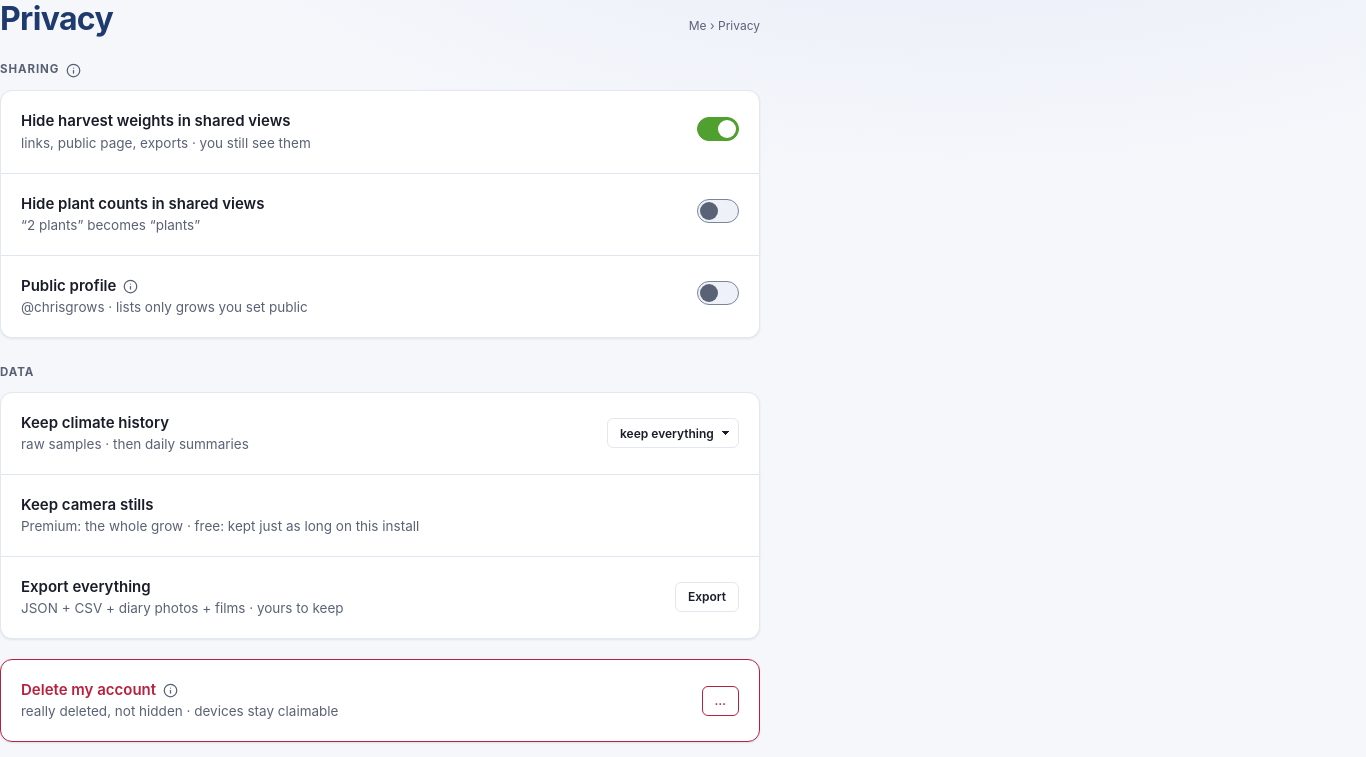
how long anything is kept › asks before any number where everything was kept, since every number is narrower than that
The image size is (1366, 757).
Expected: the switch named "Public profile" is shown, [697,282,739,306]
Step 1. Select "2 years" in the dropdown named "Keep climate history" → (673, 433), box [607,418,739,448]
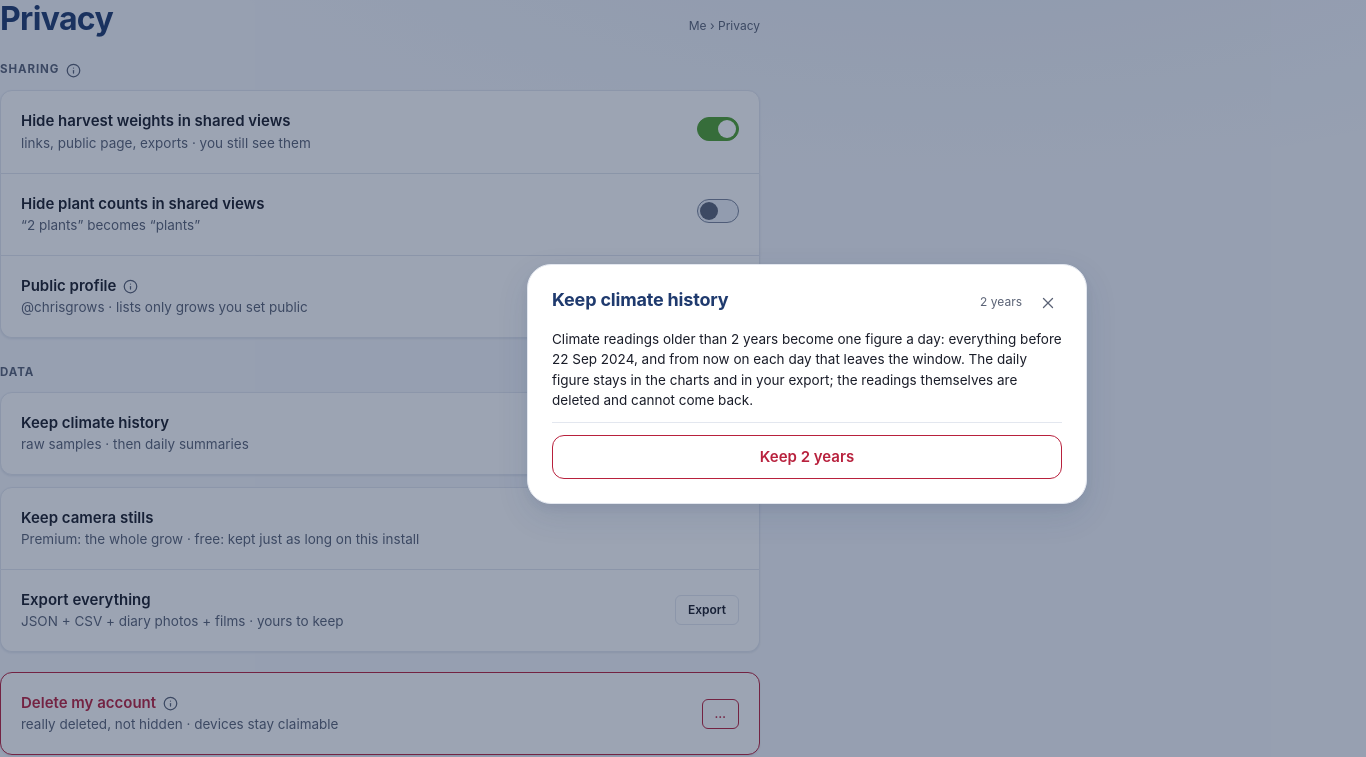
Expected: the dialog shows "Climate readings older than 2 years", [552,331,1062,408]
